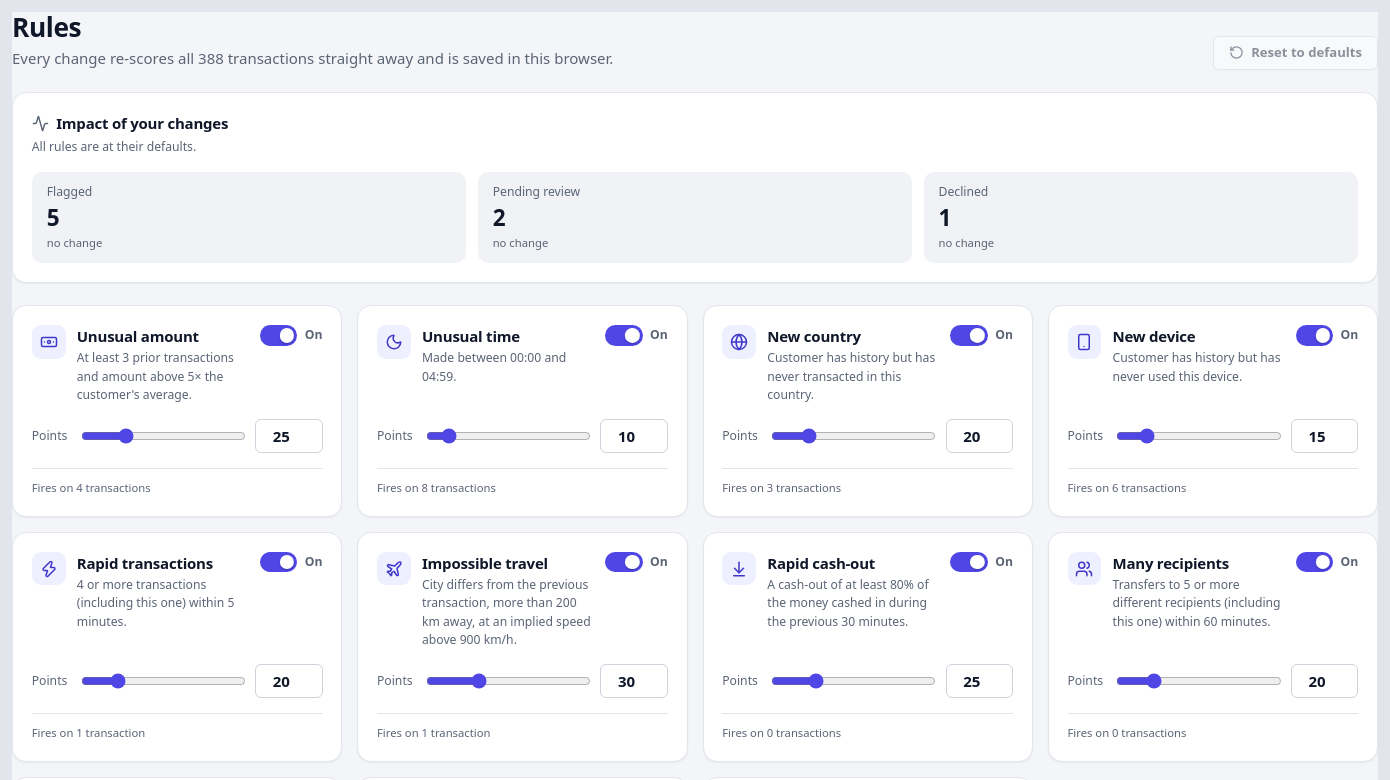
Rules page › reset restores every default
The image size is (1390, 780).
Step 1. Click the switch labelled "On" next to "New device" → [1314, 335], box [1296,325,1333,346]
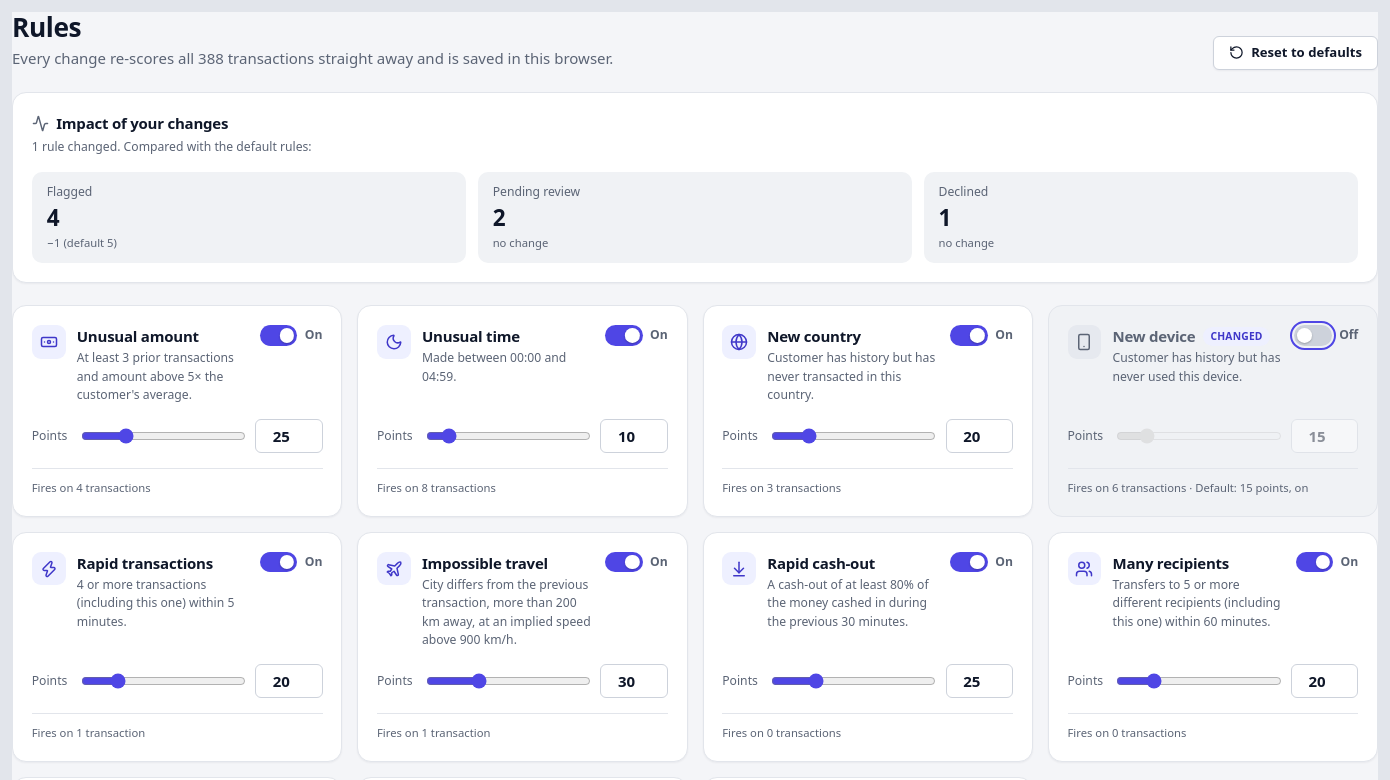
Step 2. Click the button "Reset to defaults" → [1295, 53], box [1213,36,1378,70]
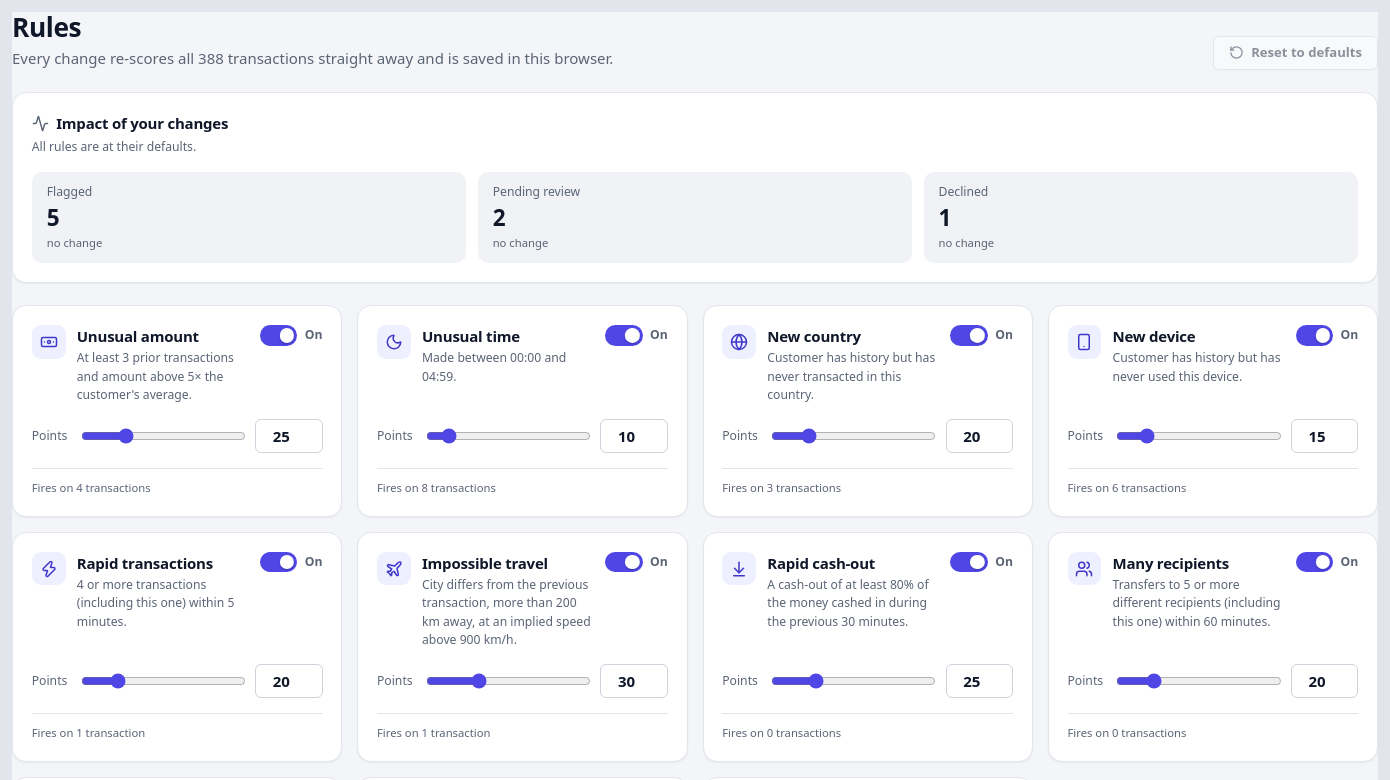
expect the switch labelled "On" next to "New device" is checked: met, box [1296,325,1333,346]
expect the button "Reset to defaults" is disabled: met, box [1213,36,1378,70]
